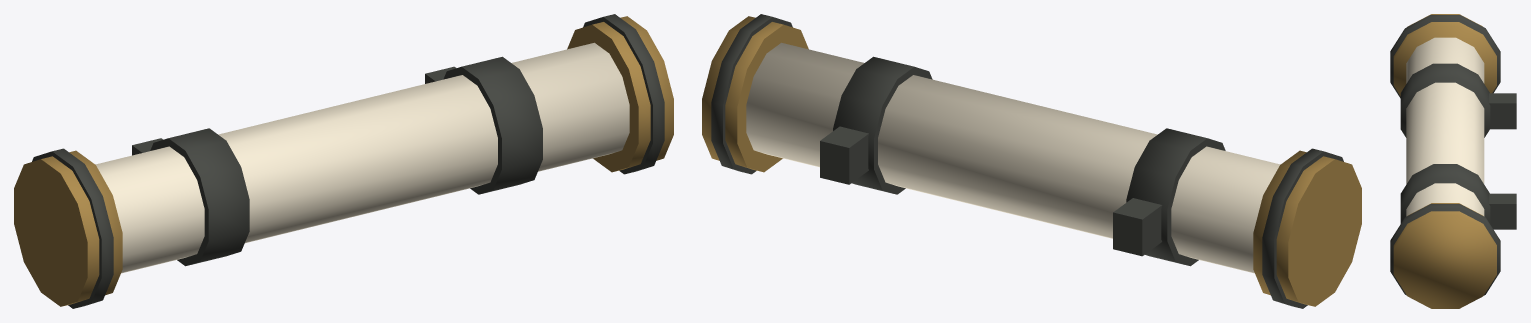
The model's file is b1_pipe.glb.
3 renders of one model, left to right at view 1: azimuth 30°, elevation 25°; view 2: azimuth 150°, elevation 25°; view 3: azimuth 270°, elevation 25°, orthographic. The views are drawn at different scales.
Parts seen in each view (by area): view 1: b1_pipe; view 2: b1_pipe; view 3: b1_pipe.
Part boxes in pixels (x1,y1,x2,y2): b1_pipe: [14, 14, 673, 308]; b1_pipe: [702, 14, 1361, 308]; b1_pipe: [1390, 14, 1516, 308].
Size of the model in its own units: 2 by 0.4636 by 0.5318.
